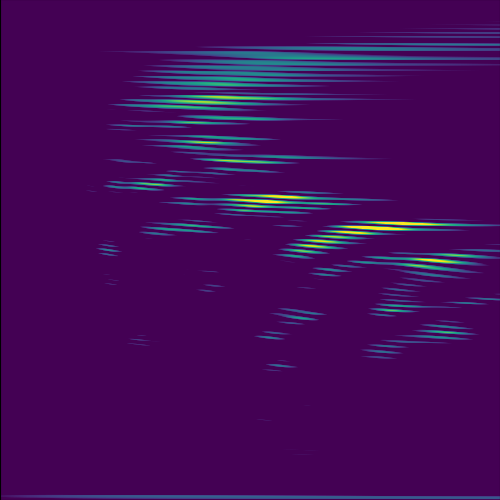semblance: (282, 215, 459, 257), (219, 184, 326, 218), (385, 251, 484, 278), (156, 94, 269, 115)
